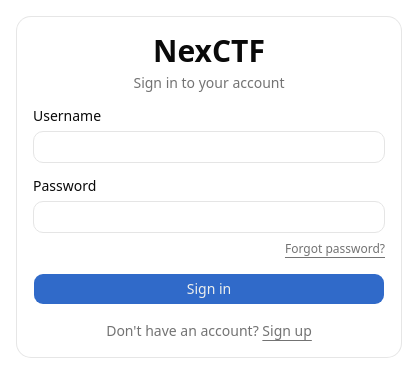
shows the email-verification card with a resend form
The image size is (419, 375).
Type "alice" into the field labelled "Username".
click(209, 147); type("alice")  # box [33,131,385,163]
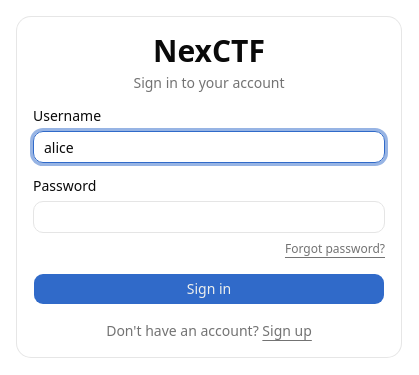
Type "hunter2" into the password field labelled "Password".
click(209, 217); type("hunter2")  # box [33,201,385,233]
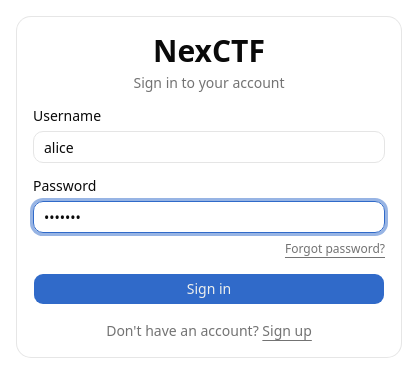
Click the button "Sign in".
click(209, 289)  # box [33,273,385,305]
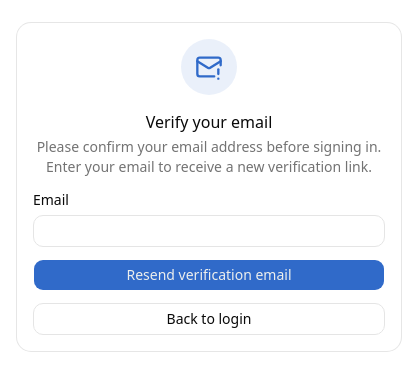
Result: the text "Verify your email" is shown at [146,111,272,133]
Result: the button "Resend verification email" is shown at [33,259,385,291]
